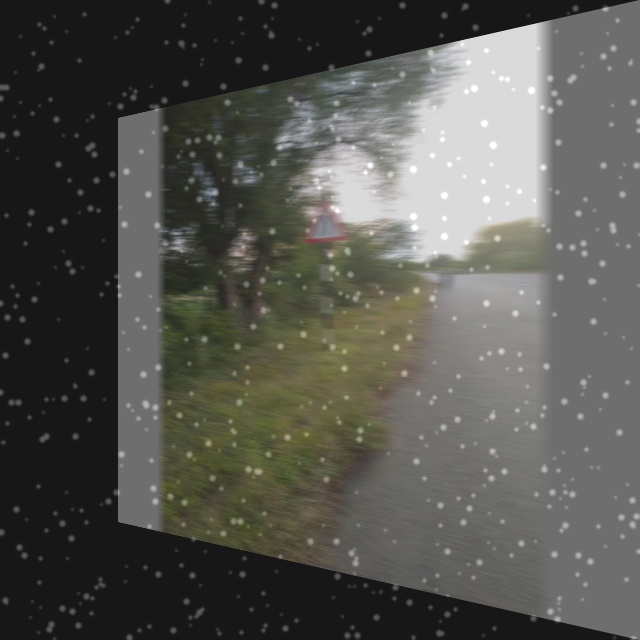Narrow_Road_Ahead: (301, 195, 346, 243)
